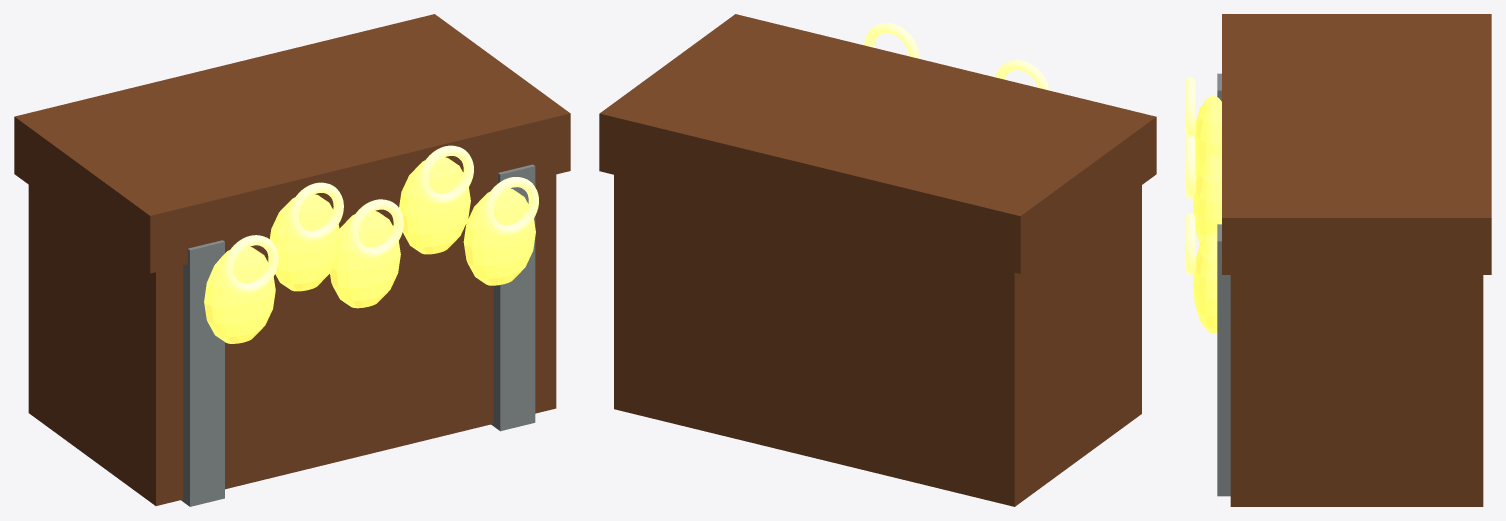
File: effect-resupply.glb
3 renders of one model, left to right at view 1: azimuth 30°, elevation 25°; view 2: azimuth 150°, elevation 25°; view 3: azimuth 270°, elevation 25°, orthographic.
Visible parts, largest first — view 1: Resupply_CrateBody, Resupply_CrateLid, Resupply_CrateBrace_L, Resupply_CrateBrace_R, Resupply_RationBundle_5, Resupply_RationBundle_1, Resupply_RationBundle_4, Resupply_RationBundle_2, Resupply_RationBundle_3, Resupply_BundleTie_1, Resupply_BundleTie_5, Resupply_BundleTie_3 (+2 smaller); view 2: Resupply_CrateBody, Resupply_CrateLid, Resupply_BundleTie_4, Resupply_BundleTie_2; view 3: Resupply_CrateLid, Resupply_CrateBody, Resupply_CrateBrace_R, Resupply_RationBundle_5, Resupply_RationBundle_4, Resupply_RationBundle_2, Resupply_BundleTie_4, Resupply_BundleTie_5, Resupply_BundleTie_2.
Boxes of the visible parts, left/top/right/bottom form: Resupply_CrateBody: left=28, top=174, right=556, bottom=505; Resupply_CrateLid: left=14, top=14, right=570, bottom=273; Resupply_CrateBrace_L: left=181, top=240, right=224, bottom=506; Resupply_CrateBrace_R: left=491, top=164, right=535, bottom=431; Resupply_RationBundle_5: left=463, top=188, right=535, bottom=285; Resupply_RationBundle_1: left=204, top=246, right=275, bottom=343; Resupply_RationBundle_4: left=399, top=157, right=470, bottom=254; Resupply_RationBundle_2: left=270, top=194, right=340, bottom=291; Resupply_RationBundle_3: left=330, top=211, right=400, bottom=308; Resupply_BundleTie_1: left=223, top=235, right=278, bottom=293; Resupply_BundleTie_5: left=483, top=177, right=538, bottom=235; Resupply_BundleTie_3: left=348, top=199, right=403, bottom=257; Resupply_CrateBody: left=614, top=175, right=1141, bottom=506; Resupply_CrateLid: left=599, top=14, right=1156, bottom=273; Resupply_BundleTie_4: left=864, top=23, right=919, bottom=58; Resupply_BundleTie_2: left=995, top=60, right=1049, bottom=90; Resupply_CrateLid: left=1222, top=14, right=1491, bottom=274; Resupply_CrateBody: left=1230, top=275, right=1483, bottom=506; Resupply_CrateBrace_R: left=1217, top=224, right=1230, bottom=496; Resupply_RationBundle_5: left=1193, top=232, right=1217, bottom=333; Resupply_RationBundle_4: left=1193, top=154, right=1221, bottom=243; Resupply_RationBundle_2: left=1194, top=96, right=1221, bottom=174; Resupply_BundleTie_4: left=1185, top=134, right=1195, bottom=196; Resupply_BundleTie_5: left=1185, top=213, right=1195, bottom=274; Resupply_BundleTie_2: left=1185, top=76, right=1195, bottom=136.
Size of the model in its own units: 0.84 by 0.594 by 0.534.
